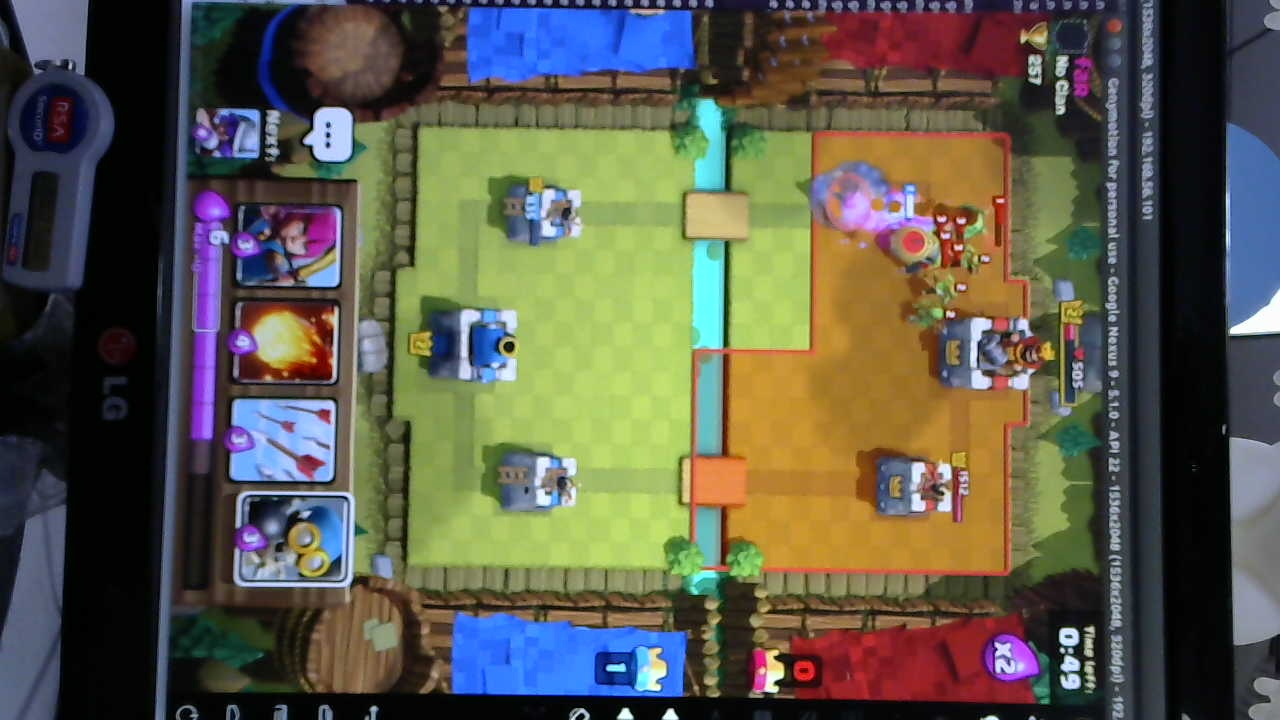arena: (500, 182, 587, 247), (504, 450, 580, 513)
dragon: (958, 196, 992, 242)
earena: (872, 456, 956, 517)
eking: (933, 313, 1051, 393)
king: (430, 304, 523, 387)
speargoblins: (910, 255, 981, 333)
